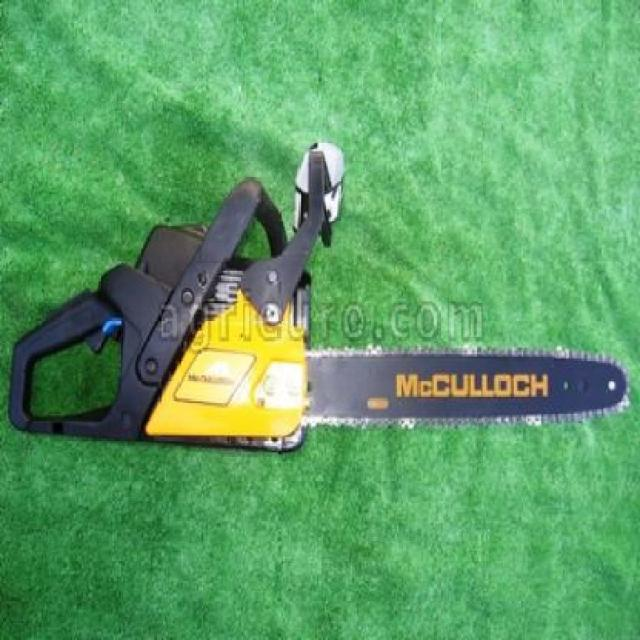Chainsaw: (6, 143, 631, 451)
